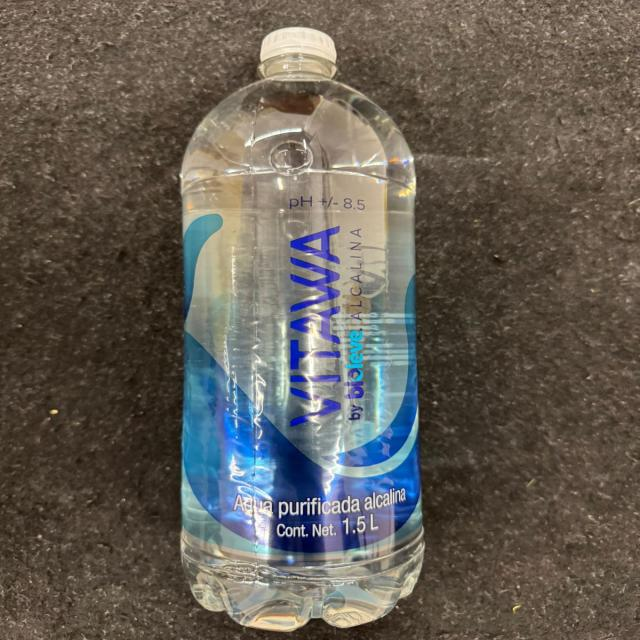AGUA ALCALINA VITAWA 1.5 LTS: (180, 24, 429, 626)
